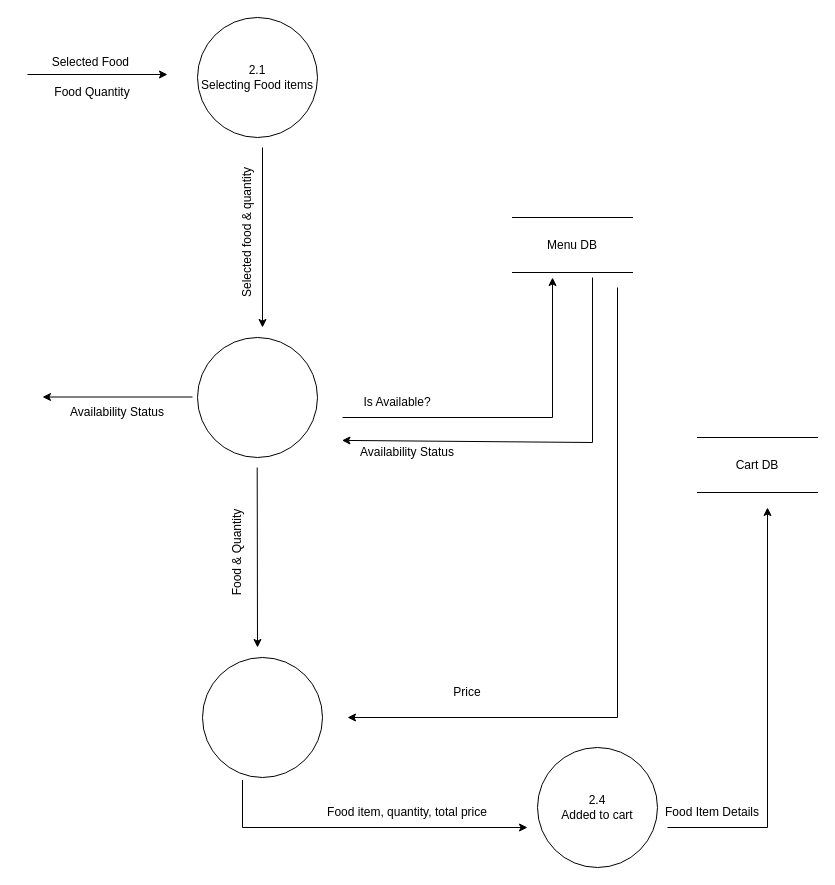
The diagram is 835 pixels wide and 885 high, and some of its shapes have lost their labels. Here are the shapes that lost their labels. From the top down, the box of each, then its label:
(196, 336, 318, 458): 2.2 Check Availability
(202, 656, 322, 778): 2.3 Price Calculation
